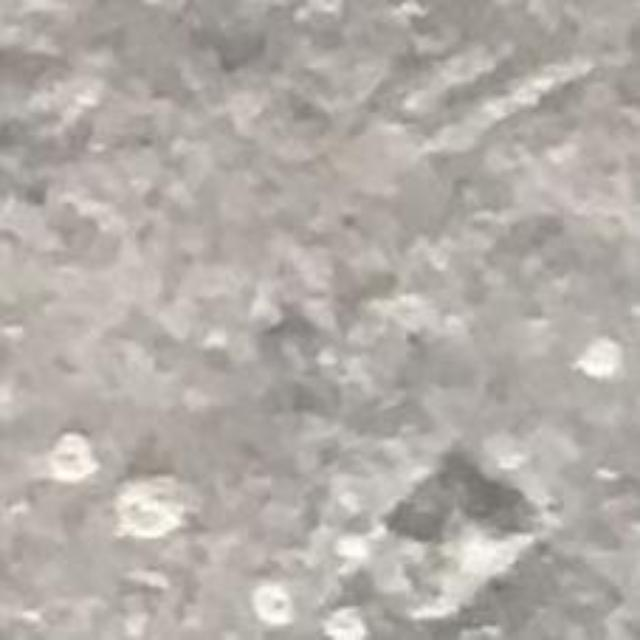peeling plaster: (319, 446, 555, 639)
